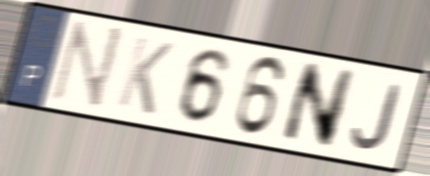6: (232, 53, 287, 139), (175, 45, 233, 126)
J: (349, 80, 405, 153)
K: (113, 33, 177, 119)
N: (46, 17, 129, 114), (278, 59, 359, 152)
